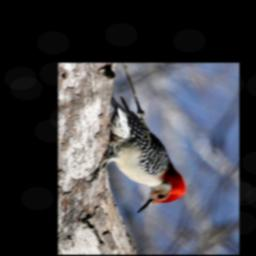Woodpecker: (79, 91, 191, 216)
